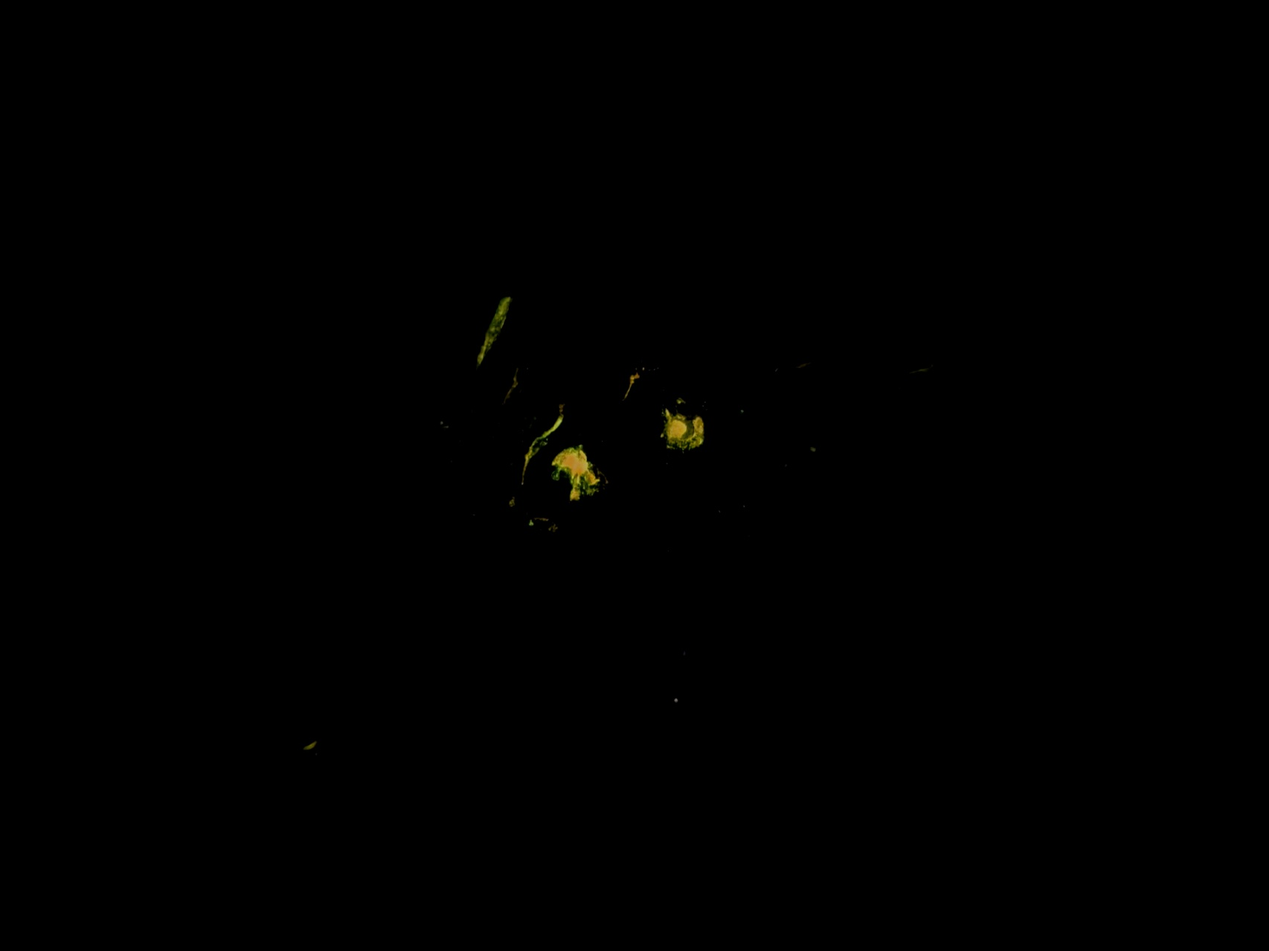Crater: (506, 409, 640, 531), (627, 369, 744, 481)
